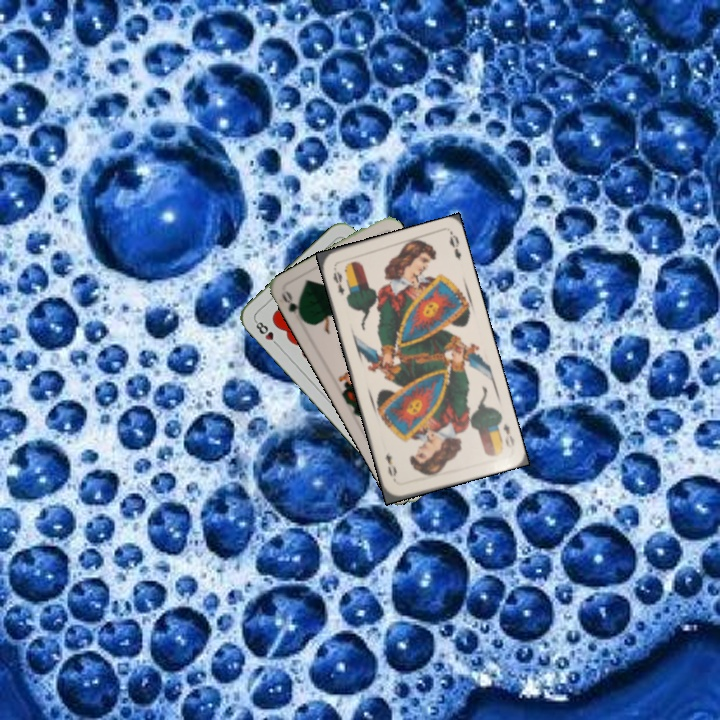EO: (499, 420, 517, 451), (329, 267, 347, 297)
GO: (278, 287, 309, 324)
H8: (251, 316, 282, 349)
